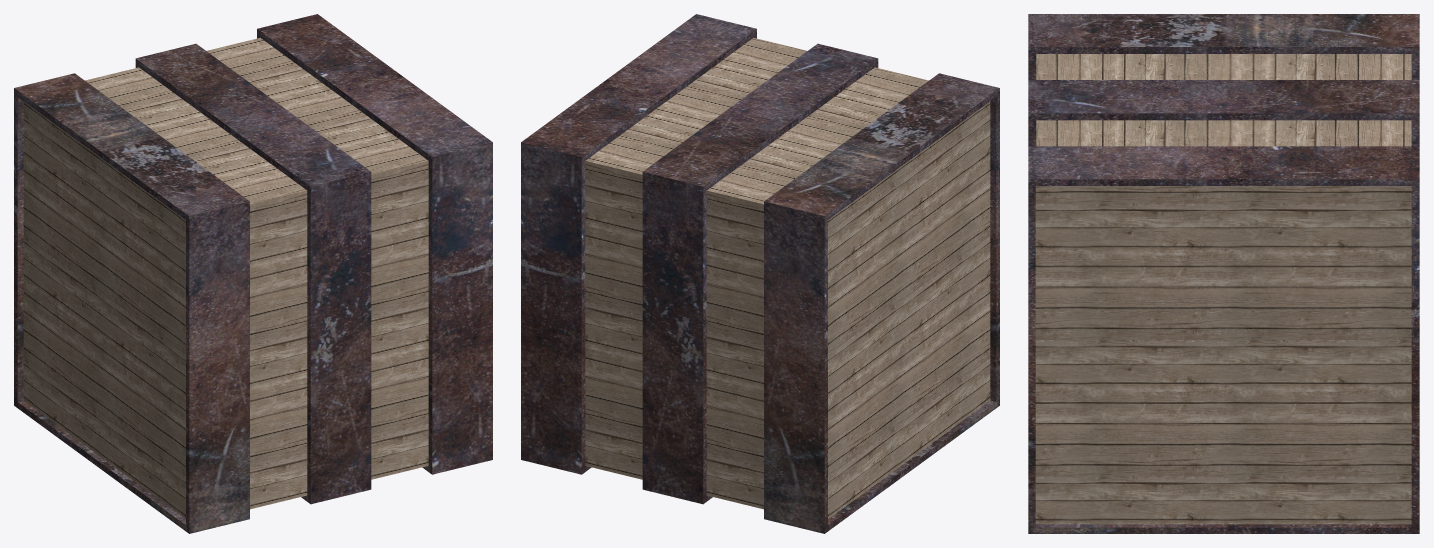
File: crate.dae
The picture shows the model from 3 angles, left to right: view 1: azimuth 30°, elevation 25°; view 2: azimuth 150°, elevation 25°; view 3: azimuth 270°, elevation 25°; orthographic projection. The views are drawn at different scales.
Visible parts, largest first — view 1: Crate1-col; view 2: Crate1-col; view 3: Crate1-col.
Part boxes in pixels (left/top/right/bottom): Crate1-col: left=14, top=14, right=492, bottom=533; Crate1-col: left=521, top=14, right=999, bottom=533; Crate1-col: left=1028, top=14, right=1419, bottom=533.
Size of the model in its own units: 1.25 by 1.25 by 1.25.
Materials: 2 (2 with a texture image).
